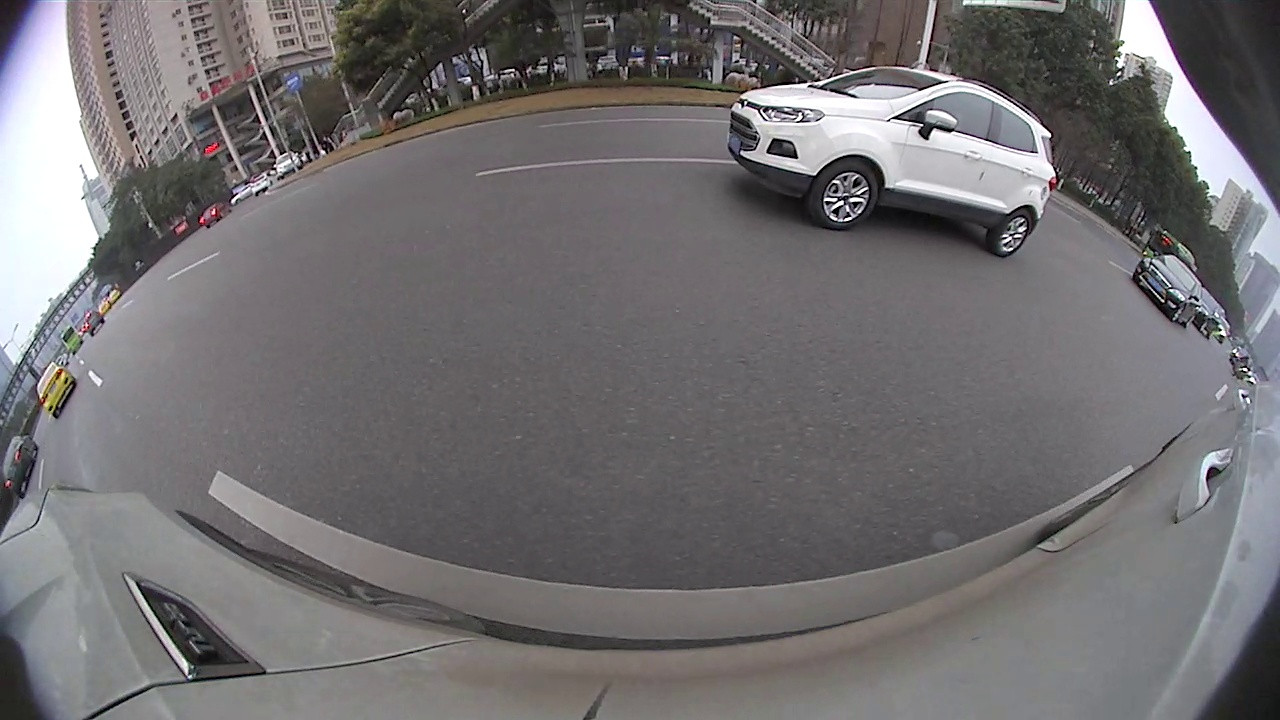bus: (1144, 227, 1199, 274)
car: (727, 65, 1058, 258), (1131, 255, 1203, 328), (35, 362, 77, 419), (2, 433, 38, 499), (1189, 287, 1219, 338)
front: (811, 163, 878, 228)
rear: (988, 212, 1031, 255)
